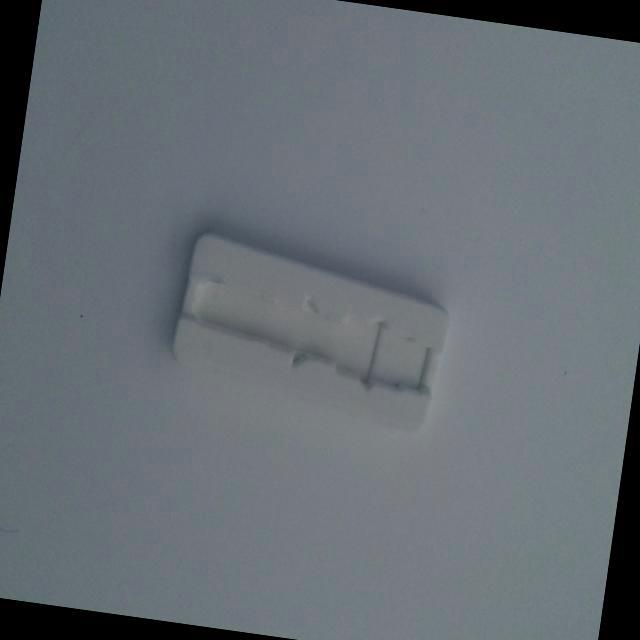plastic: (134, 184, 495, 488)
